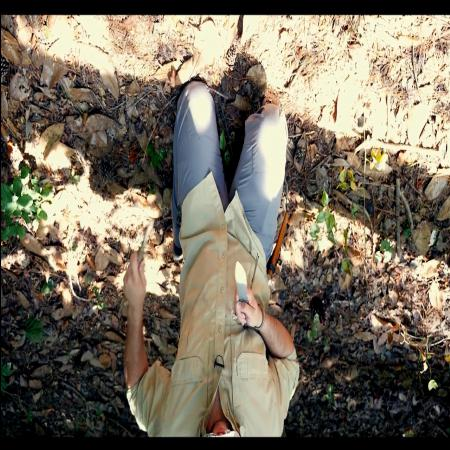long weapon: (231, 255, 259, 331)
